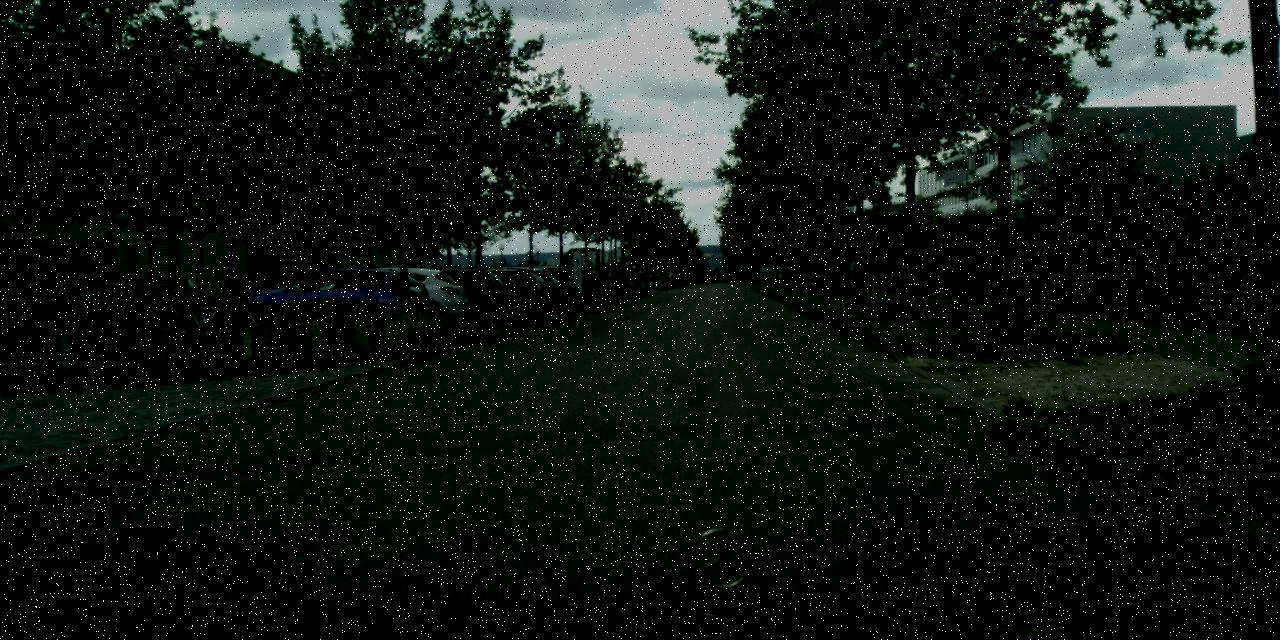ped: (850, 255, 863, 287)
